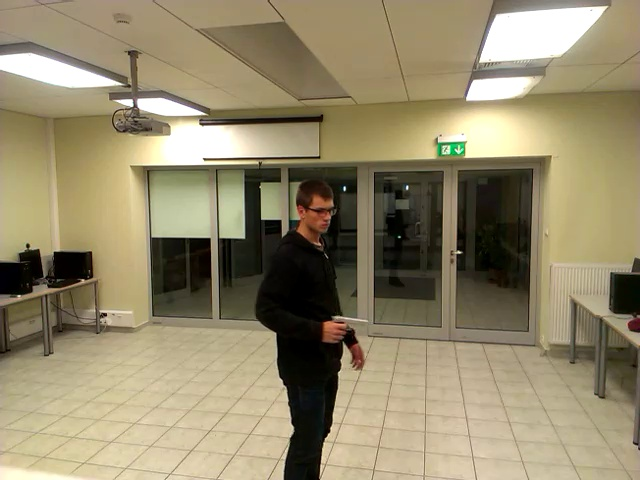gun: (325, 300, 383, 350)
